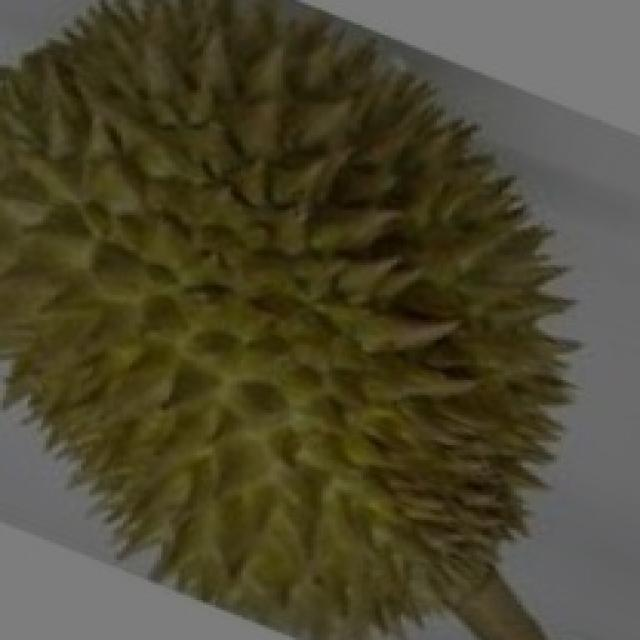fruit: (258, 275, 640, 640), (0, 248, 357, 638), (0, 0, 332, 415)
